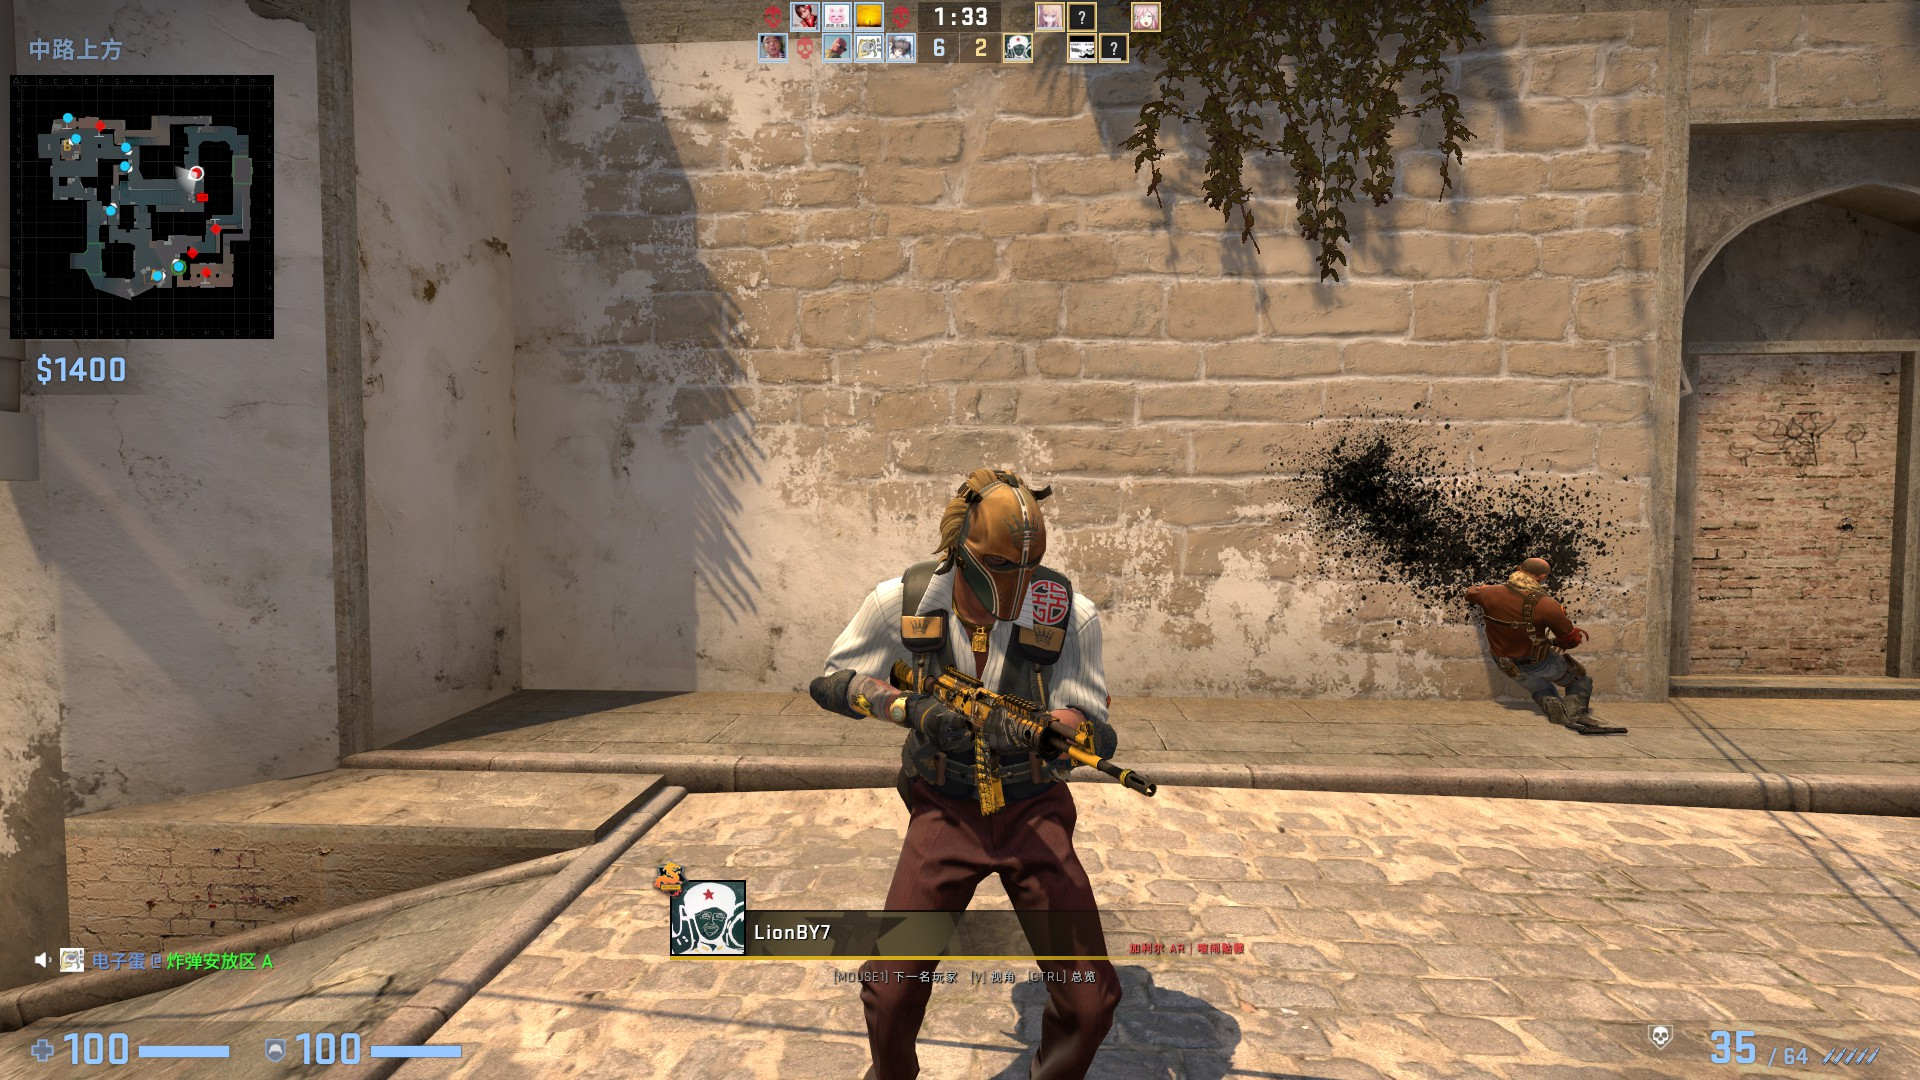head: (942, 467, 1057, 627), (1516, 548, 1554, 587)
